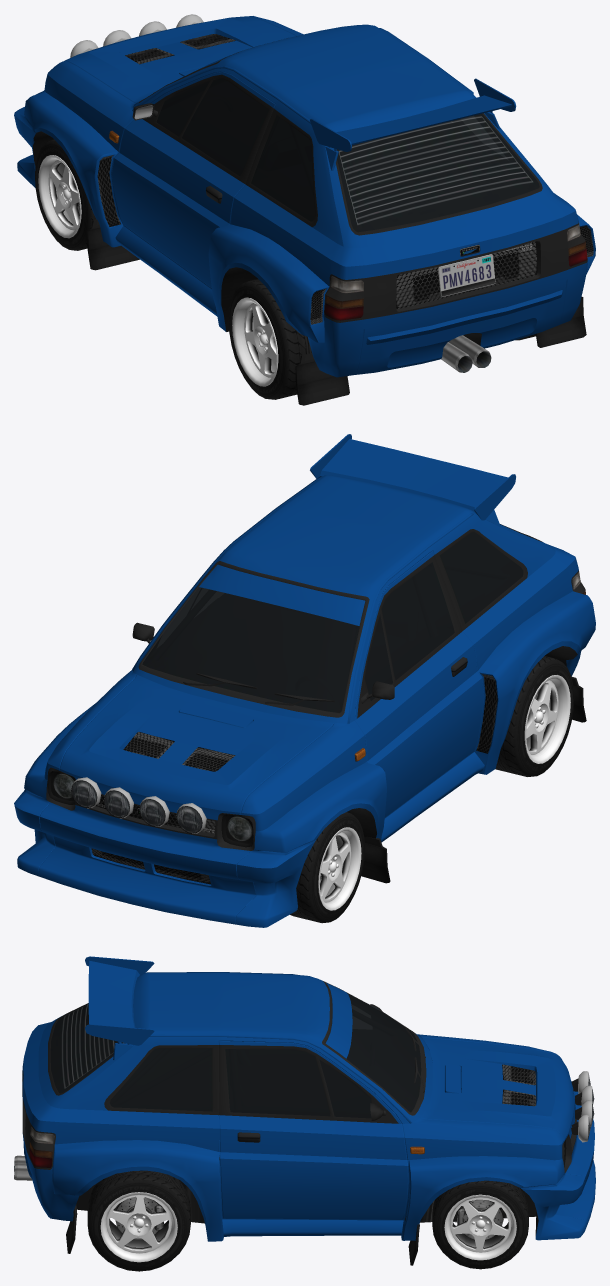
The picture shows the model from 3 angles, top to bottom: view 1: azimuth 30°, elevation 25°; view 2: azimuth 150°, elevation 25°; view 3: azimuth 270°, elevation 25°; orthographic projection. The views are drawn at different scales.
Parts seen in each view (by area): view 1: body.002, wheel_RL.002, wheel_FL.002; view 2: body.002, wheel_RL.002, wheel_FL.002; view 3: body.002, wheel_RR.002, wheel_FR.002.
Part boxes in pixels (<box>): body.002: <box>14,14,595,405</box>; wheel_RL.002: <box>228,279,311,399</box>; wheel_FL.002: <box>35,139,95,250</box>; body.002: <box>14,434,595,927</box>; wheel_RL.002: <box>495,656,574,776</box>; wheel_FL.002: <box>290,812,364,923</box>; body.002: <box>14,956,595,1265</box>; wheel_RR.002: <box>87,1170,190,1271</box>; wheel_FR.002: <box>432,1180,528,1269</box>.
Size of the model in its own units: 1.95 by 1.65 by 3.89.
Materials: 7 (6 with a texture image).
